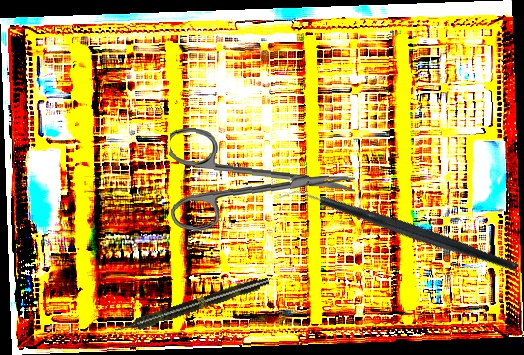Chopper: (274, 118, 521, 345)
Handpiece: (113, 273, 271, 338)
Iris Scissors: (165, 127, 358, 239)
